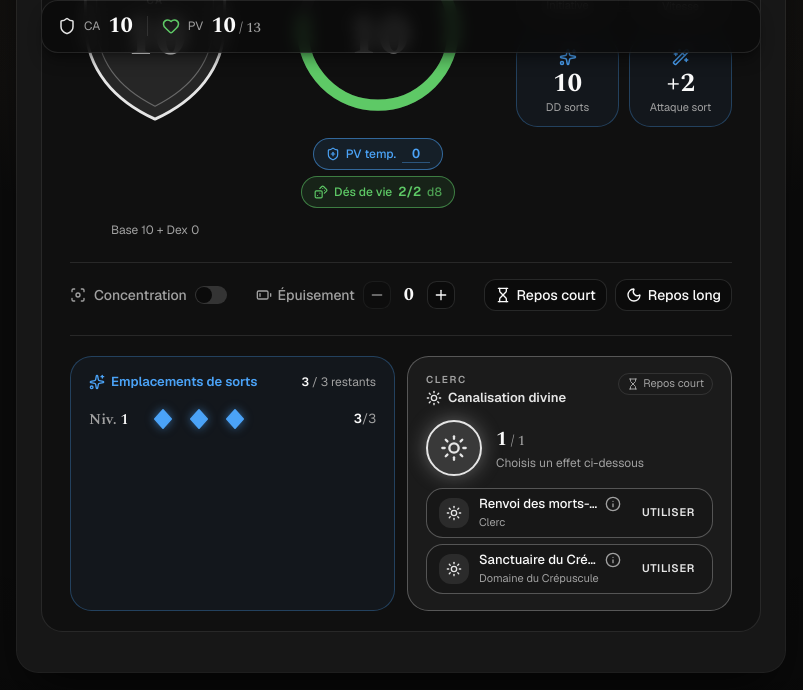
ClassResourceCards — Canalisation divine dans le HUD (via CharacterPlay) › consumes the shared pool from any option, then disables the options
(page scrolled)
Click the button with aria-label "utiliser renvoi" at (668, 513), box [631,495,706,531]
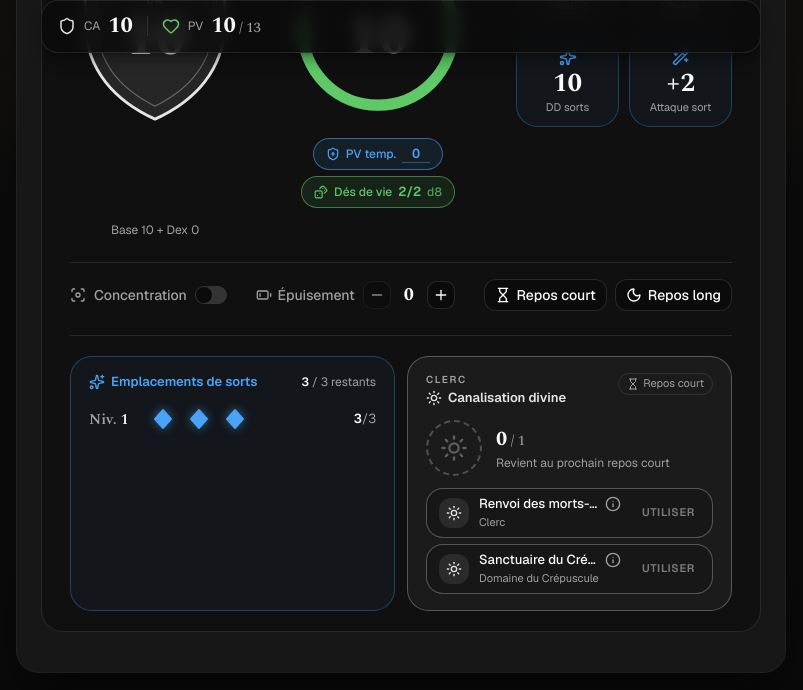
Check: the button with aria-label "utiliser sanctuaire du crépuscule" is disabled, box [631,551,706,587]
Check: the text "Revient au prochain repos court" is shown, box [496,455,670,471]
Click the button named "récupérer : canalisation" at (454, 448), box [426,420,482,476]
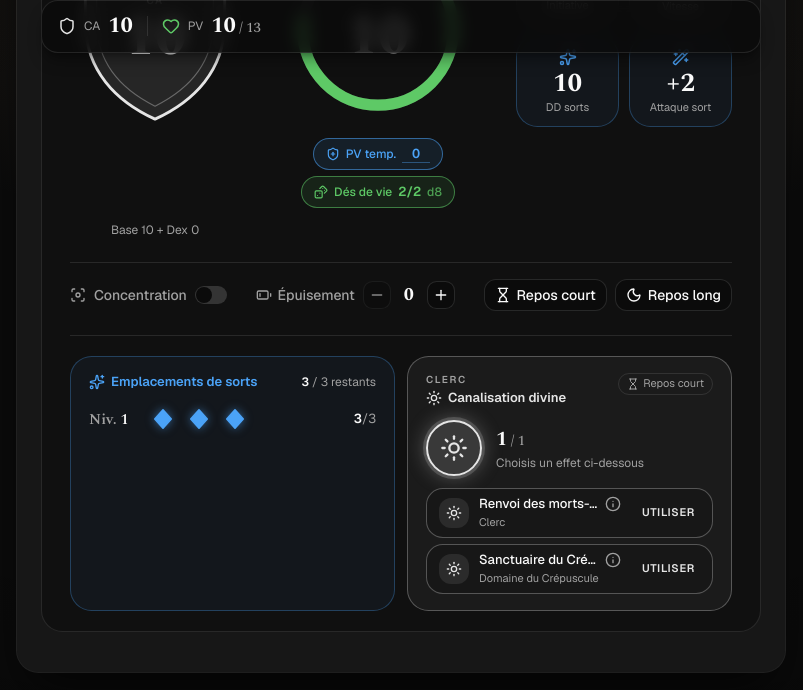
Check: the button with aria-label "utiliser renvoi" is enabled, box [631,495,706,531]
